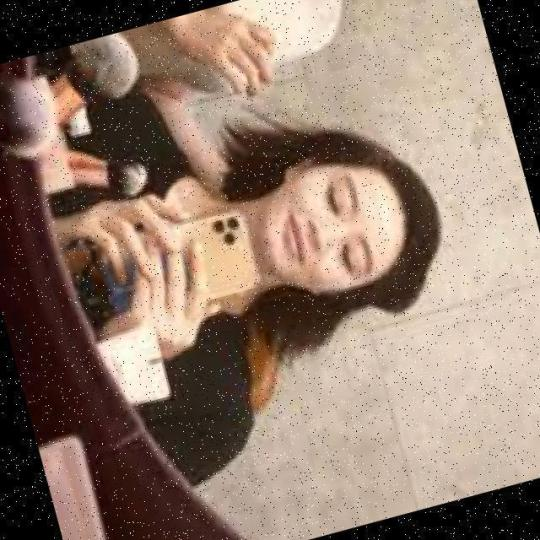phone: (143, 204, 264, 306)
